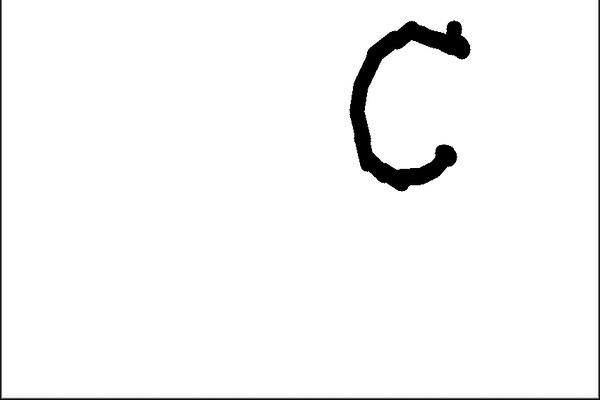C: (343, 16, 475, 192)
